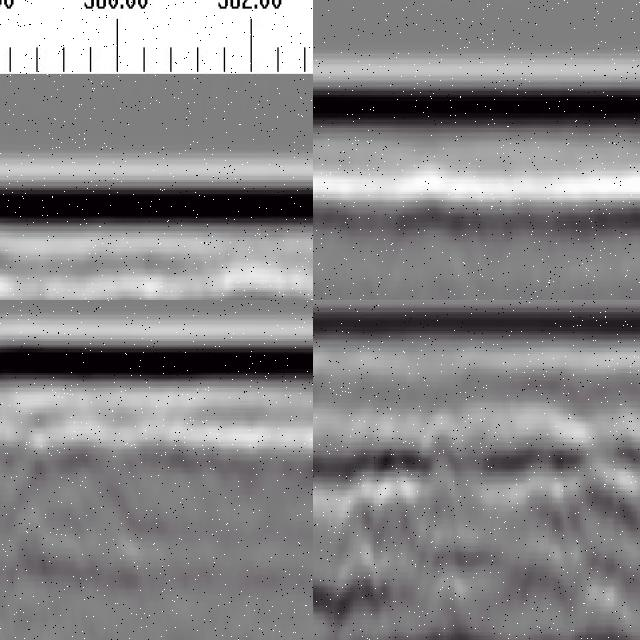loose: (316, 419, 640, 640)
